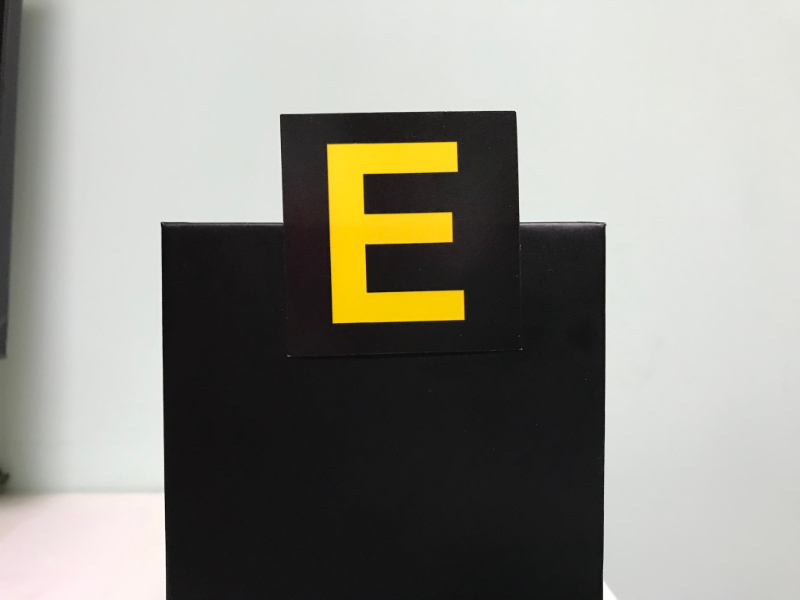E-15: (290, 116, 515, 348)
